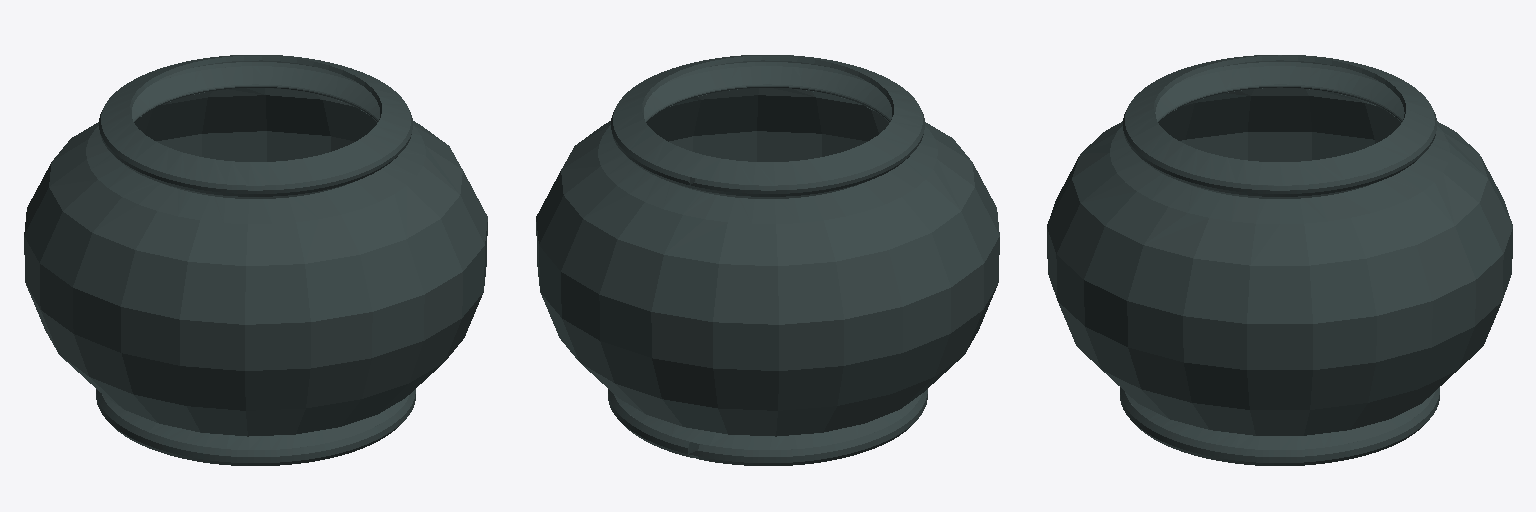
File: fishAndBowlExport.obj
The picture shows the model from 3 angles: view 1: azimuth 30°, elevation 25°; view 2: azimuth 150°, elevation 25°; view 3: azimuth 270°, elevation 25°; orthographic projection.
Parts seen in each view (by area): view 1: Fishbowl; view 2: Fishbowl; view 3: Fishbowl.
Boxes of the visible parts, box(x1,y1,x2,y2) form: Fishbowl: box(24, 55, 487, 465); Fishbowl: box(536, 55, 999, 465); Fishbowl: box(1047, 55, 1512, 465).
Size of the model in its own units: 33.29 by 23.41 by 33.64.